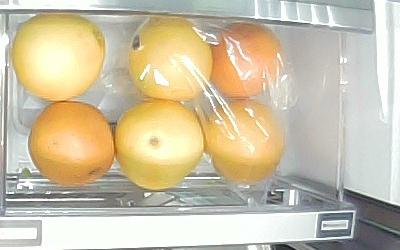grapefruit: (12, 12, 106, 101), (114, 101, 205, 189), (28, 101, 115, 188)
grapefruit_vinyl: (127, 16, 213, 102), (204, 99, 285, 182), (210, 21, 284, 99)
